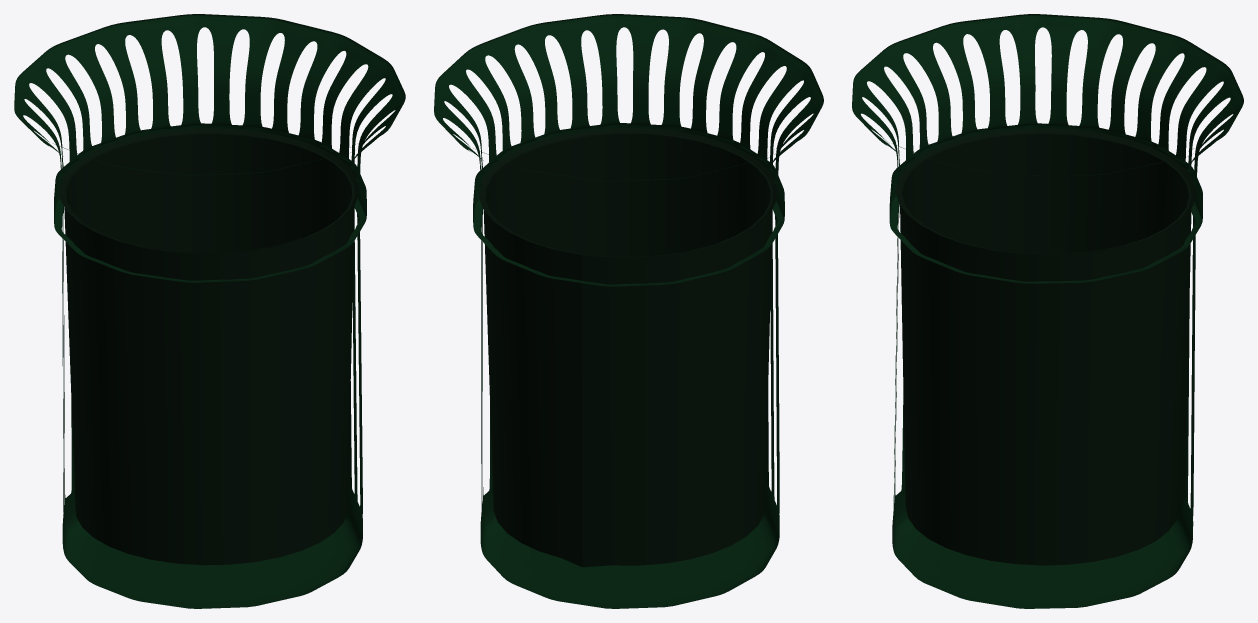
3 renders of one model, left to right at view 1: azimuth 30°, elevation 25°; view 2: azimuth 150°, elevation 25°; view 3: azimuth 270°, elevation 25°, orthographic.
Visible parts, largest first — view 1: Trash_Low; view 2: Trash_Low; view 3: Trash_Low.
Boxes of the visible parts, left/top/right/bottom form: Trash_Low: left=14, top=14, right=405, bottom=608; Trash_Low: left=434, top=14, right=823, bottom=608; Trash_Low: left=852, top=14, right=1243, bottom=608.
Size of the model in its own units: 70 by 90.54 by 70.04.
